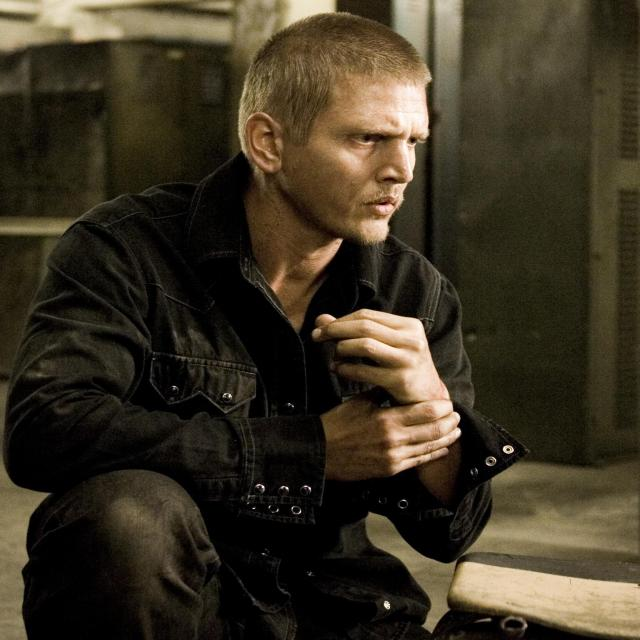no-earmuff: (238, 101, 300, 182)
